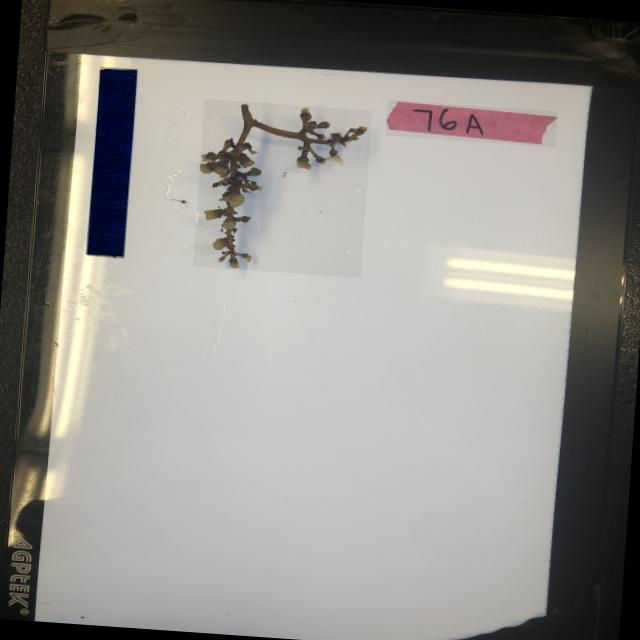index: (385, 99, 557, 147)
measure_label: (87, 66, 137, 258)
rachis_cluster: (192, 99, 372, 278)
